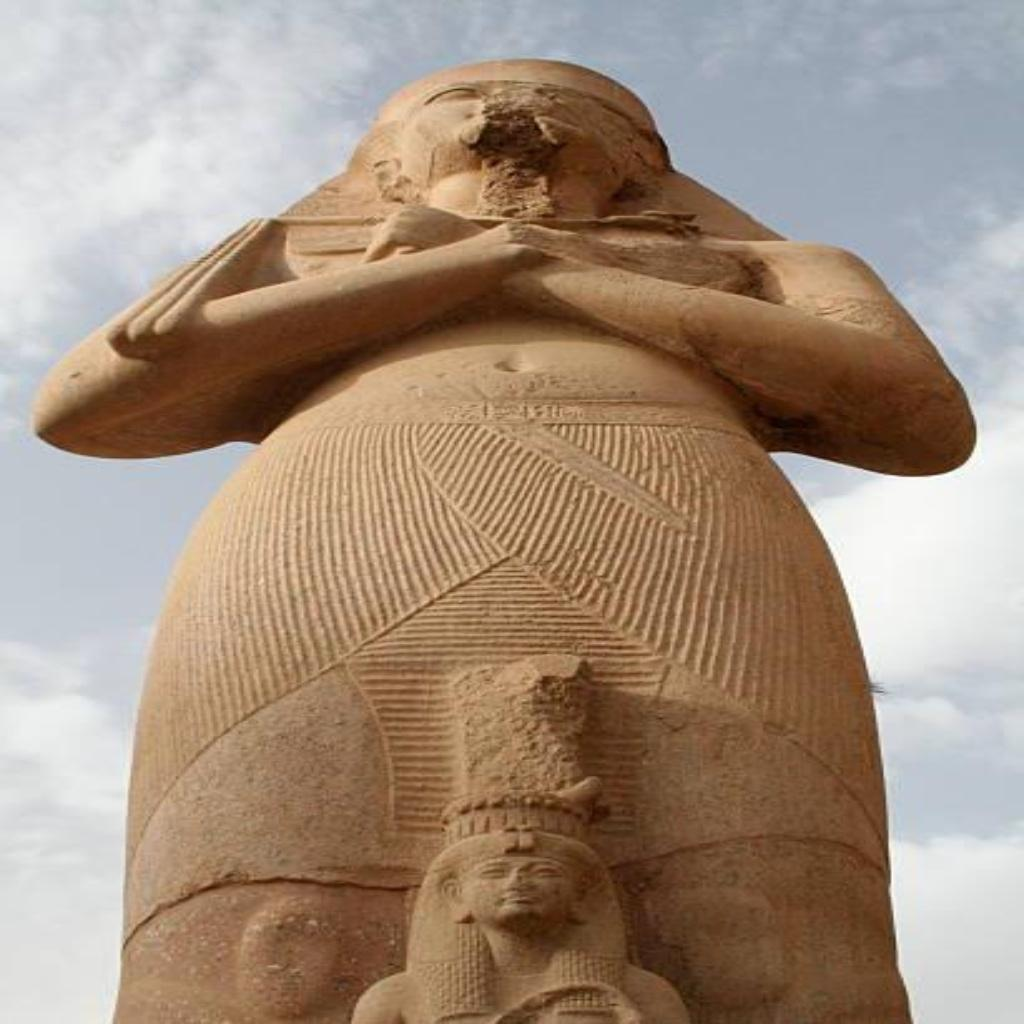Standing Statue of King Ramses II: (28, 54, 982, 1022)
